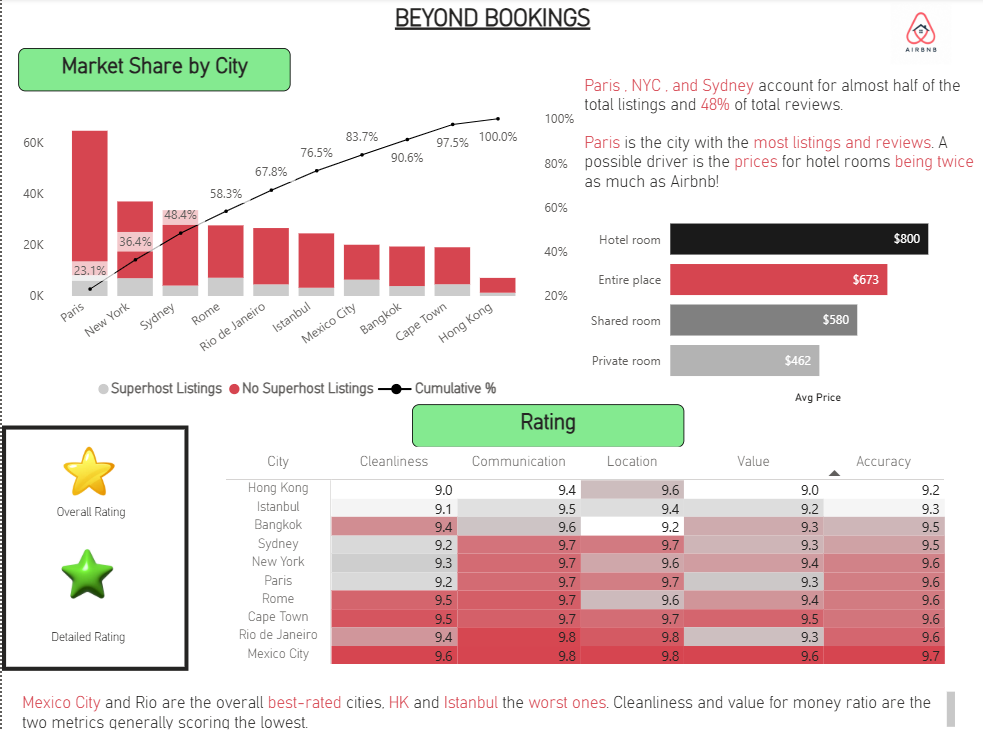

Layout of this report page (visuals, bound fields, positions):
{"tool":"powerbi","page":{"name":"Ratings","canvas":[960,720],"ordinal":1},"visuals":[{"type":"textbox","box":[150.4,0,659.1,59.9],"z":0},{"type":"image","box":[42.2,428.8,84.4,67.8],"z":0,"group":"g3"},{"type":"image","box":[35.2,526.2,96.7,75.6],"z":0,"group":"g2"},{"type":"image","box":[847.4,0,103.9,69.7],"z":1000},{"type":"textbox","box":[35,610.6,97.8,38.9],"z":1000,"group":"g2"},{"type":"textbox","box":[15.6,48.9,266.7,42.2],"z":2000},{"type":"textbox","box":[15,673.8,922.5,46.2],"z":3000},{"type":"lineStackedColumnComboChart","fields":{"Category":["Listings.city"],"Y":["Listings.Superhost Listings","Listings.No Superhost Listings"],"Y2":["Listings.Cumulative %"]},"box":[15.6,102.2,550,300],"z":4000},{"type":"barChart","fields":{"Category":["Listings.room_type"],"Y":["Listings.Avg Price"]},"box":[565.6,192.2,383.3,210],"z":5000},{"type":"textbox","box":[565.6,70,394.4,137.8],"z":6000},{"type":"textbox","box":[401.2,397.5,266.2,42.5],"z":8000},{"type":"shape","box":[0,418.8,182.5,240],"z":10000},{"type":"pivotTable","fields":{"Rows":["Listings.city"],"Values":["Listings.Cleanliness","Listings.Communication","Listings.Location","Listings.Value","Listings.Accuracy"]},"box":[214,439,722.7,234.8],"z":10500},{"type":"group","id":"g1","title":"Group 1","box":[35,428.8,102.5,97.5],"z":11000},{"type":"group","id":"g2","title":"Group 2","box":[35,526.2,97.5,123.8],"z":12000},{"type":"textbox","box":[35,487.7,103.3,37.8],"z":12001,"group":"g3"},{"type":"group","id":"g3","title":"Group 3","box":[35,428.8,103.3,96.7],"z":12003,"group":"g1"}]}

Visuals, with their boxes in screenshot pixels (x1, y1, x2, y2), scaled from the page's 960x720 canvas onto the 983x731 screenshot:
textbox: [154, 0, 829, 61]
image: [43, 435, 130, 504]
image: [36, 534, 135, 611]
image: [868, 0, 974, 71]
textbox: [36, 620, 136, 659]
textbox: [16, 50, 289, 92]
textbox: [15, 684, 960, 730]
lineStackedColumnComboChart - Listings.city x Listings.Superhost Listings: [16, 104, 579, 408]
barChart - Listings.room_type x Listings.Avg Price: [579, 195, 972, 408]
textbox: [579, 71, 982, 211]
textbox: [411, 404, 683, 447]
shape: [0, 425, 187, 669]
pivotTable - Listings.city x Listings.Cleanliness: [219, 446, 959, 684]
"Group 1" group: [36, 435, 141, 534]
"Group 2" group: [36, 534, 136, 660]
textbox: [36, 495, 142, 534]
"Group 3" group: [36, 435, 142, 534]
